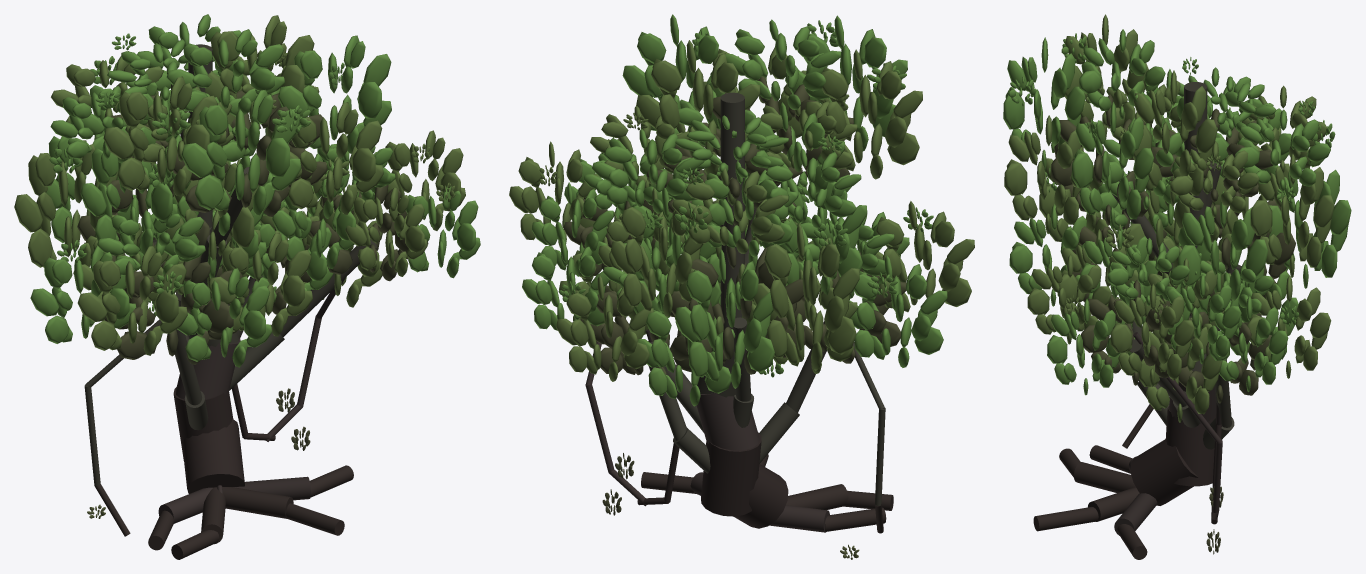
The model's file is CMU3DBroadleafTree05.glb.
3 views of the same model, side by side, from view 1: azimuth 30°, elevation 25°; view 2: azimuth 150°, elevation 25°; view 3: azimuth 270°, elevation 25° (orthographic). The views are drawn at different scales.
Visible parts, largest first — view 1: irregular rounded leaf cluster (×28), off-center crown cluster (×5), rounded leaf core (×4), source curved trunk 1, source curved trunk 3, source root 1.1, source curved trunk 2, source root 4.1, inferred crown branch 5.2, source root 1.2, inferred crown branch 4.2, source root 3.1 (+7 smaller); view 2: irregular rounded leaf cluster (×28), off-center crown cluster (×6), rounded leaf core (×6), source curved trunk 2, inferred hidden trunk continuation, source curved trunk 3, source curved trunk 1, source root 2.1, source root 3.1, inferred crown branch 5.1, source root 3.2, inferred crown branch 5.2 (+8 smaller); view 3: irregular rounded leaf cluster (×32), off-center crown cluster (×6), rounded leaf core (×6), source curved trunk 1, source curved trunk 2, source root 2.1, source root 1.2, source root 1.1, inferred hidden trunk continuation, source root 4.1, source root 3.2, source root 4.2 (+6 smaller).
Part boxes in pixels (x1=…): irregular rounded leaf cluster (×28): x1=14, y1=14, x2=480, y2=367; off-center crown cluster (×5): x1=81, y1=29, x2=395, y2=275; rounded leaf core (×4): x1=77, y1=93, x2=428, y2=364; source curved trunk 1: x1=181, y1=418, x2=244, y2=493; source curved trunk 3: x1=176, y1=338, x2=240, y2=399; source root 1.1: x1=222, y1=487, x2=293, y2=518; source curved trunk 2: x1=173, y1=387, x2=233, y2=460; source root 4.1: x1=233, y1=476, x2=310, y2=500; inferred crown branch 5.2: x1=175, y1=329, x2=202, y2=405; source root 1.2: x1=286, y1=503, x2=344, y2=535; inferred crown branch 4.2: x1=280, y1=238, x2=376, y2=337; source root 3.1: x1=158, y1=487, x2=212, y2=523; irregular rounded leaf cluster (×28): x1=509, y1=14, x2=974, y2=406; off-center crown cluster (×6): x1=583, y1=19, x2=894, y2=312; rounded leaf core (×6): x1=563, y1=76, x2=906, y2=375; source curved trunk 2: x1=701, y1=432, x2=761, y2=516; inferred hidden trunk continuation: x1=720, y1=92, x2=744, y2=330; source curved trunk 3: x1=696, y1=393, x2=759, y2=450; source curved trunk 1: x1=702, y1=464, x2=788, y2=528; source root 2.1: x1=786, y1=484, x2=848, y2=510; source root 3.1: x1=769, y1=505, x2=829, y2=532; inferred crown branch 5.1: x1=759, y1=402, x2=799, y2=463; source root 3.2: x1=825, y1=507, x2=886, y2=531; inferred crown branch 5.2: x1=786, y1=321, x2=826, y2=412; irregular rounded leaf cluster (×32): x1=1003, y1=14, x2=1351, y2=422; off-center crown cluster (×6): x1=1079, y1=29, x2=1291, y2=314; rounded leaf core (×6): x1=1051, y1=94, x2=1295, y2=403; source curved trunk 1: x1=1130, y1=439, x2=1198, y2=505; source curved trunk 2: x1=1165, y1=406, x2=1215, y2=486; source root 2.1: x1=1074, y1=462, x2=1135, y2=492; source root 1.2: x1=1033, y1=507, x2=1098, y2=531; source root 1.1: x1=1088, y1=487, x2=1139, y2=521; inferred hidden trunk continuation: x1=1184, y1=82, x2=1207, y2=316; source root 4.1: x1=1114, y1=493, x2=1157, y2=535; source root 3.2: x1=1089, y1=445, x2=1132, y2=473; source root 4.2: x1=1117, y1=524, x2=1147, y2=559.
Size of the model in its own units: 1.91 by 2.08 by 1.43.
